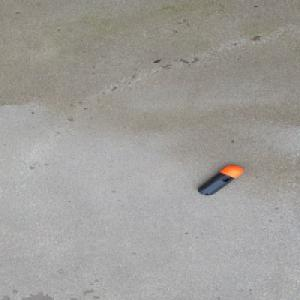PlasticPart: (196, 164, 244, 196)
